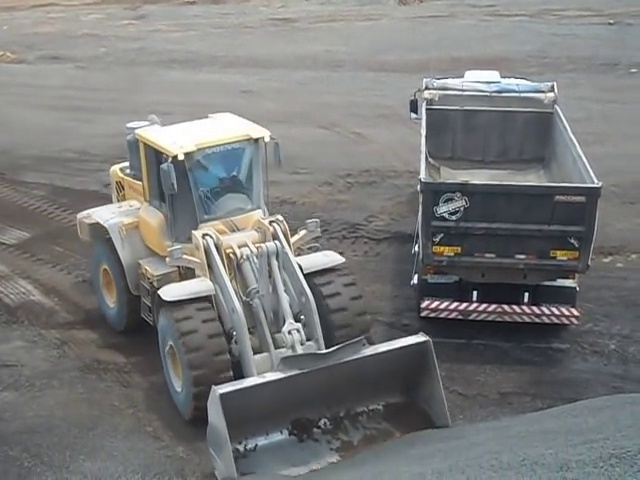truck: (408, 69, 603, 331)
wheel loader: (75, 110, 456, 479)
